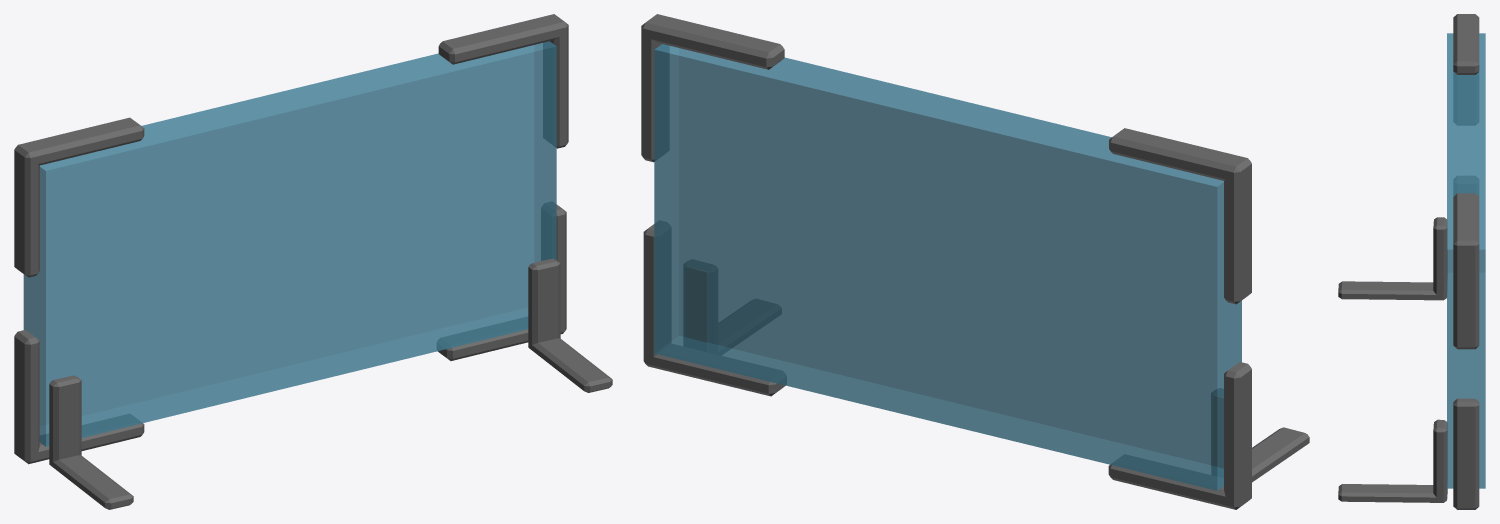
The model's file is scifi sign.fbx.
The picture shows the model from 3 angles, left to right: view 1: azimuth 30°, elevation 25°; view 2: azimuth 150°, elevation 25°; view 3: azimuth 270°, elevation 25°; orthographic projection. The views are drawn at different scales.
Parts seen in each view (by area): view 1: polySurface6; view 2: polySurface6; view 3: polySurface6.
Part boxes in pixels (box(x1,y1,x2,y2)): polySurface6: box(14, 14, 612, 509); polySurface6: box(641, 14, 1309, 509); polySurface6: box(1338, 14, 1485, 509).
Bounding box in the file's own units: 34.01 × 18.67 × 9.22.
